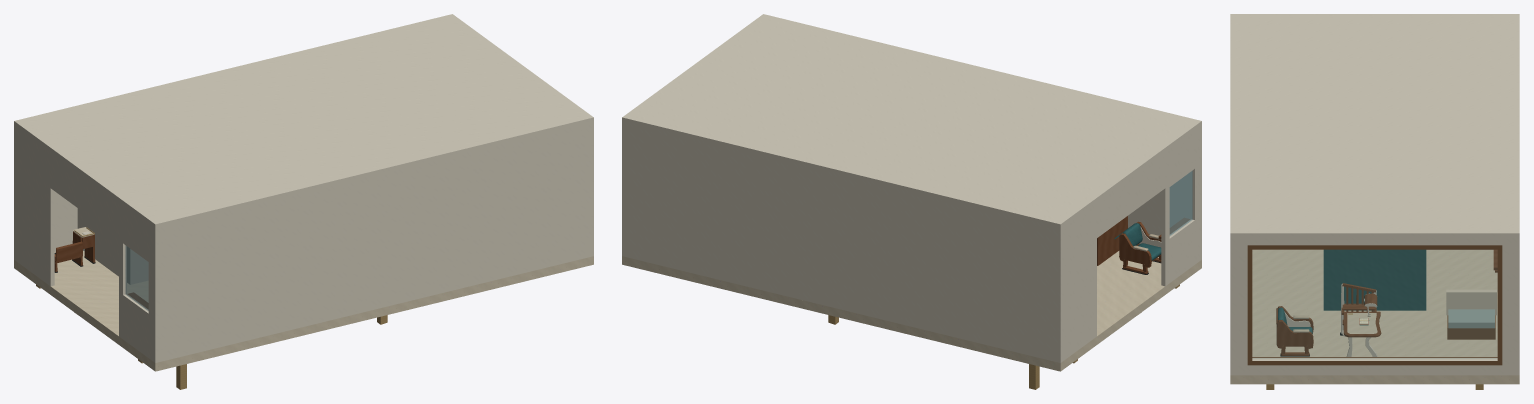
Rendered from NG452_PanoramicSuite_r001.glb.
The picture shows the model from 3 angles, left to right: view 1: azimuth 30°, elevation 25°; view 2: azimuth 150°, elevation 25°; view 3: azimuth 270°, elevation 25°; orthographic projection. The views are drawn at different scales.
Visible parts, largest first — view 1: NG452_RuntimeBatch_001, NG452_RoomFloor, NG452_ScreenedStreetGlass, NG452_RuntimeBatch_013; view 2: NG452_RuntimeBatch_001, NG452_RoomFloor, NG452_ScreenedStreetGlass, NG452_RuntimeBatch_049, NG452_RuntimeBatch_002; view 3: NG452_RuntimeBatch_001, NGP_452_PrivateViewPane, NG452_RoomFloor, NG452_RuntimeBatch_006, NGP_452_Frame_Sill, NGP_452_Frame_Head, NGP_452_ViewSeat_Back, NG452_RuntimeBatch_028, NG452_RuntimeBatch_007, NGP_452_ViewSeat_Cushion, NGP_452_Frame_Left, NGP_452_Frame_Right (+3 smaller).
Part boxes in pixels (box(x1,y1,x2,y2)): NG452_RuntimeBatch_001: box(14, 14, 593, 362); NG452_RoomFloor: box(14, 250, 593, 371); NG452_ScreenedStreetGlass: box(125, 245, 148, 310); NG452_RuntimeBatch_013: box(54, 231, 95, 271); NG452_RuntimeBatch_001: box(622, 14, 1201, 362); NG452_RoomFloor: box(622, 251, 1201, 371); NG452_ScreenedStreetGlass: box(1169, 171, 1192, 235); NG452_RuntimeBatch_049: box(1119, 221, 1161, 274); NG452_RuntimeBatch_002: box(1097, 216, 1190, 265); NG452_RuntimeBatch_001: box(1230, 14, 1519, 375); NGP_452_PrivateViewPane: box(1252, 250, 1497, 358); NG452_RoomFloor: box(1230, 249, 1519, 384); NG452_RuntimeBatch_006: box(1323, 249, 1426, 310); NGP_452_Frame_Sill: box(1247, 357, 1502, 365); NGP_452_Frame_Head: box(1247, 245, 1502, 249); NGP_452_ViewSeat_Back: box(1446, 289, 1496, 315); NG452_RuntimeBatch_028: box(1276, 306, 1313, 355); NG452_RuntimeBatch_007: box(1341, 283, 1381, 337); NGP_452_ViewSeat_Cushion: box(1448, 309, 1494, 328); NGP_452_Frame_Left: box(1497, 249, 1502, 360); NGP_452_Frame_Right: box(1247, 249, 1252, 360).
Bounding box in the file's own units: 12.9 × 5.31 × 7.2.
68 materials, 49 textured.
